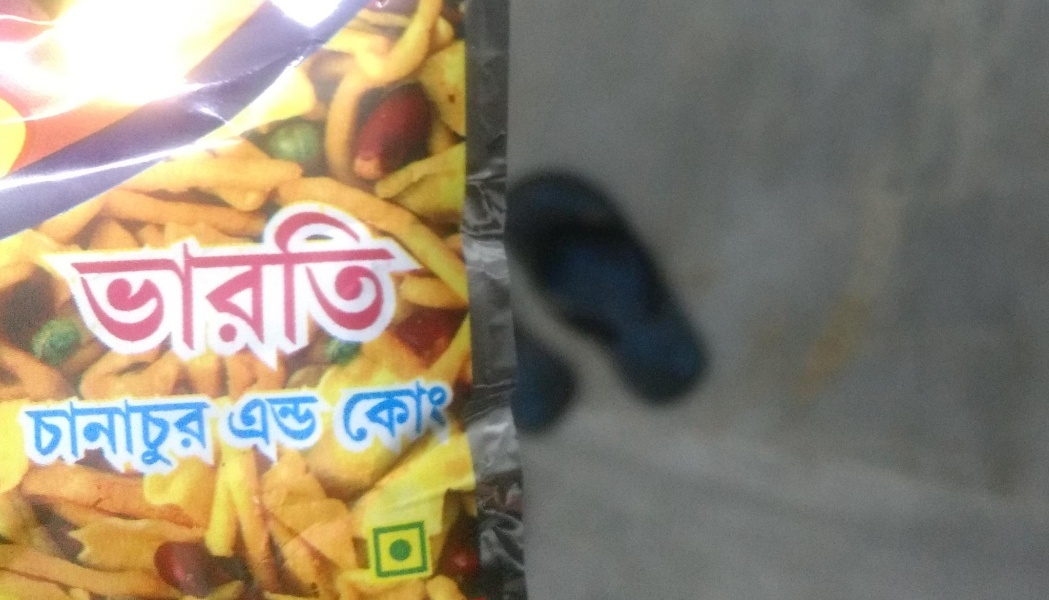text: (81, 196, 96, 359), (97, 196, 112, 359), (113, 196, 128, 359), (129, 196, 144, 359), (145, 196, 160, 359), (161, 196, 176, 359), (177, 196, 192, 359), (193, 196, 208, 359), (209, 196, 224, 359), (225, 196, 240, 359), (241, 196, 256, 359), (257, 196, 272, 359), (273, 196, 288, 359), (289, 196, 304, 359), (305, 196, 320, 359), (321, 196, 336, 359), (337, 196, 352, 359), (353, 196, 368, 359), (369, 196, 384, 359), (385, 196, 400, 359), (67, 196, 80, 359), (33, 390, 48, 471), (49, 390, 64, 471), (65, 390, 80, 471), (81, 390, 96, 471), (97, 390, 112, 471), (113, 390, 128, 471), (129, 390, 144, 471), (145, 390, 160, 471), (161, 390, 176, 471), (177, 390, 192, 471), (193, 390, 208, 471), (353, 376, 368, 447), (369, 376, 384, 447), (385, 376, 400, 447), (401, 376, 416, 447), (417, 376, 432, 447), (433, 376, 448, 447), (20, 390, 32, 471), (241, 391, 256, 445), (257, 391, 272, 445), (273, 391, 288, 445), (289, 391, 304, 445), (305, 391, 320, 445), (341, 376, 352, 447), (229, 391, 240, 445), (209, 390, 216, 471), (401, 196, 403, 359), (321, 391, 327, 445), (449, 376, 450, 447)
